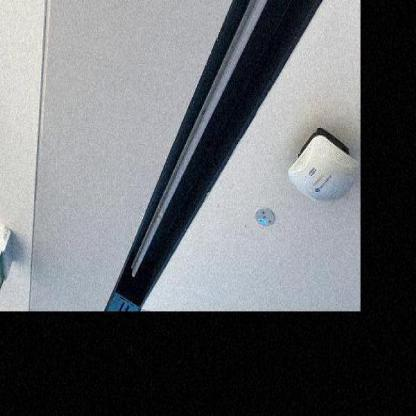light_off: (126, 0, 302, 288)
